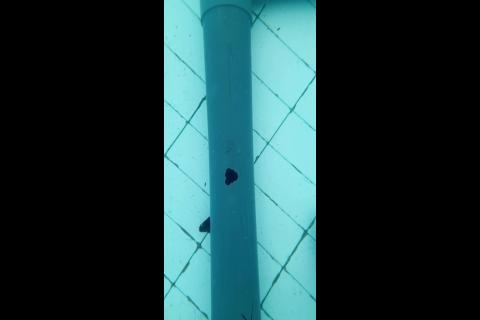kebocoran: (224, 167, 238, 186)
keretakan: (240, 301, 255, 320)
